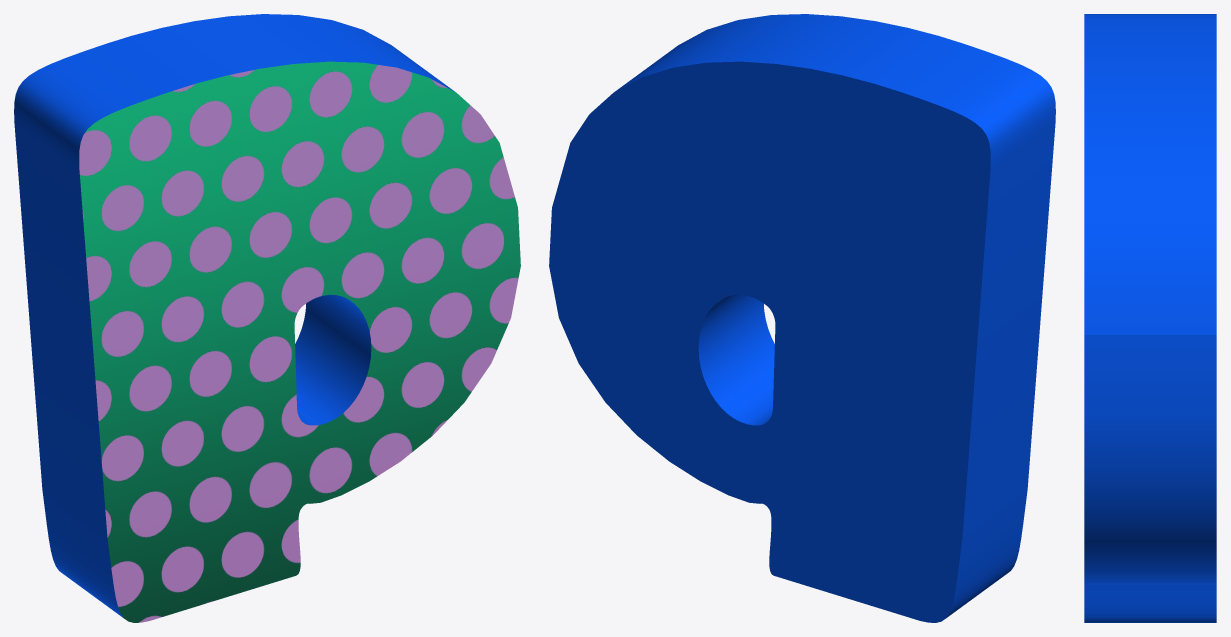
3 views of the same model, side by side, from view 1: azimuth 30°, elevation 25°; view 2: azimuth 150°, elevation 25°; view 3: azimuth 270°, elevation 25° (orthographic).
Parts seen in each view (by area): view 1: P; view 2: P; view 3: P.
Boxes of the visible parts, bbox=[...] form: P: bbox=[14, 14, 520, 622]; P: bbox=[549, 14, 1055, 622]; P: bbox=[1084, 14, 1216, 622].
Bounding box in the file's own units: 78.37 × 89.28 × 20.
Materials: 2 (1 with a texture image).
